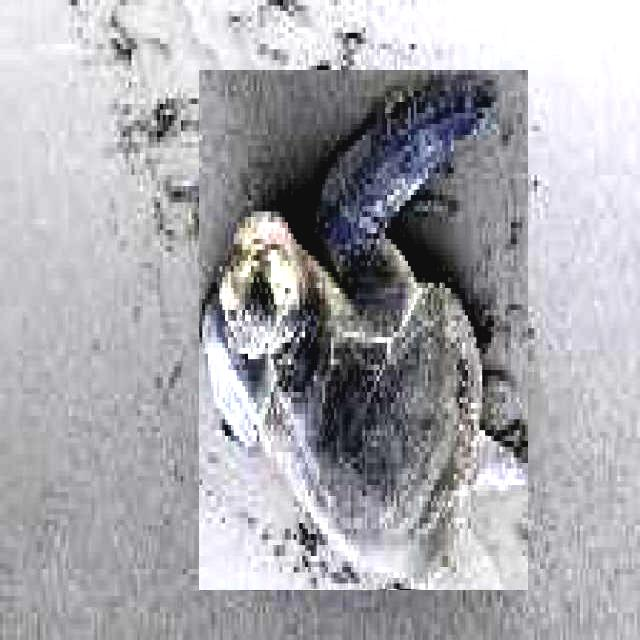Sea turtle: (200, 70, 530, 590)
